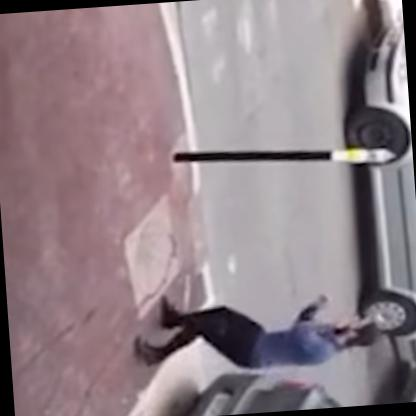Human Body: (130, 277, 380, 382)
